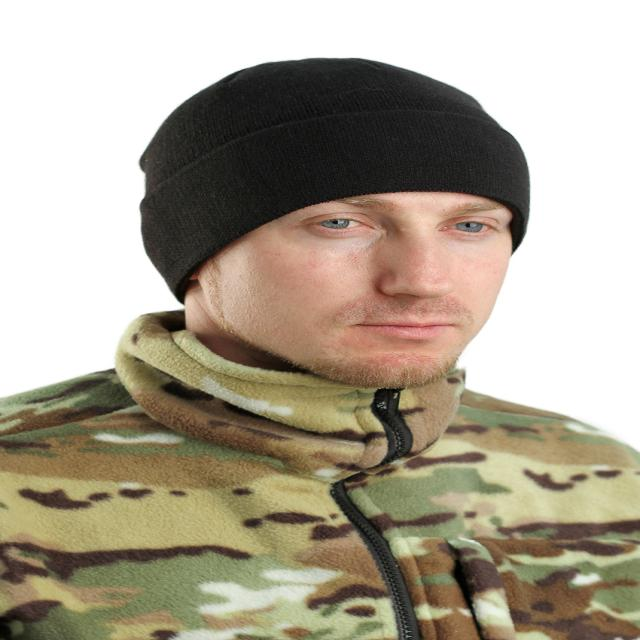illegal_helmet: (121, 52, 544, 400)
